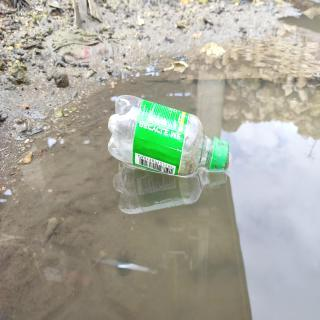bottle: (105, 91, 232, 180)
